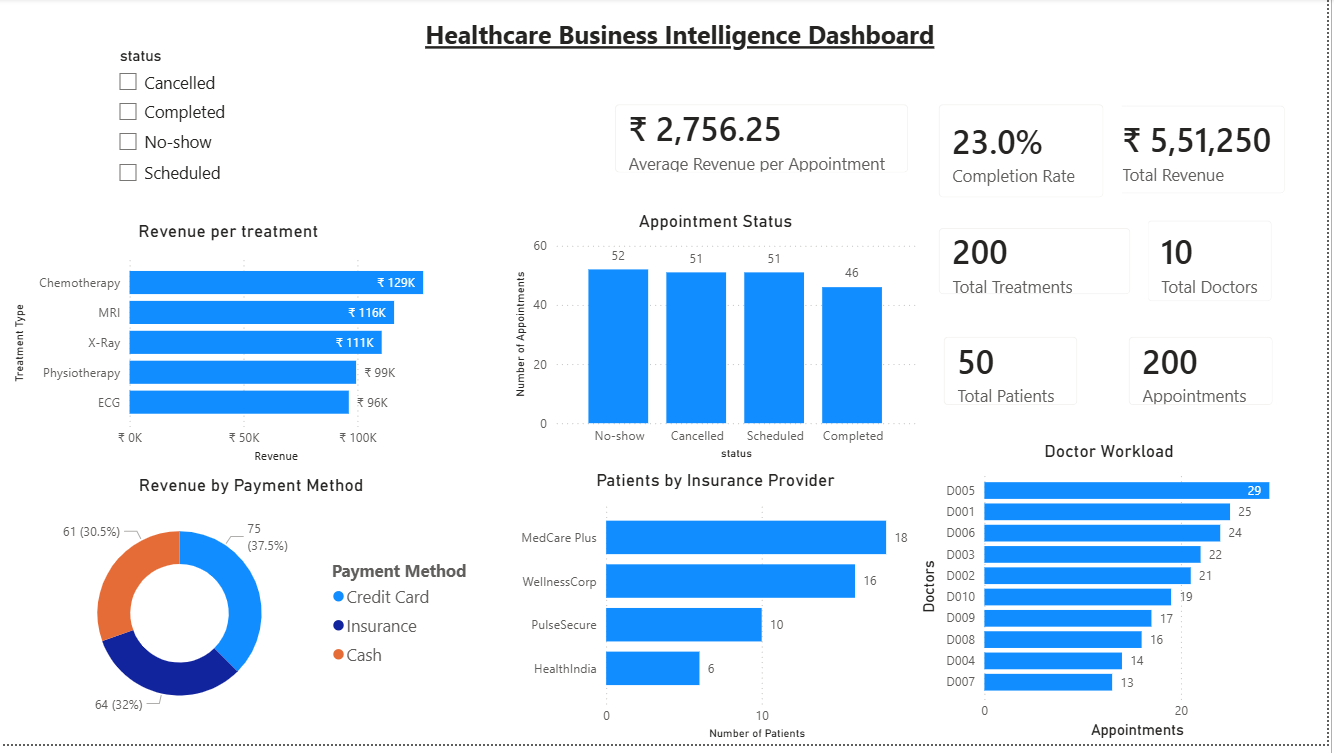

What the dashboard file says about the page in this screenshot:
{"tool":"powerbi","page":{"name":"Healthcare Business Intelligence Dashboard","canvas":[1280,720],"ordinal":0},"visuals":[{"type":"cardVisual","fields":{"Data":["Measures (2).Total Appointments"]},"box":[1072,310.2,173.1,101],"z":0},{"type":"cardVisual","fields":{"Data":["Measures (2).Total Doctors"]},"box":[1090.7,197.7,154.4,112.5],"z":1000},{"type":"cardVisual","fields":{"Data":["Measures (2).Total Patients"]},"box":[894.5,310.2,163,101],"z":2000},{"type":"cardVisual","fields":{"Data":["Measures (2).Total Treatments"]},"box":[888.7,204.9,219.3,98.1],"z":3000},{"type":"cardVisual","fields":{"Data":["Measures (2).Total Revenue"]},"box":[1053.2,86.6,204.9,119.7],"z":4000},{"type":"clusteredBarChart","title":"Revenue per treatment","fields":{"Y":["Sum(treatments.cost)"],"Category":["treatments.treatment_type"]},"box":[8.7,209.2,424.2,245.3],"z":5000},{"type":"clusteredColumnChart","title":"Appointment Status","fields":{"Y":["CountNonNull(appointments.appointment_id)"],"Category":["appointments.status"]},"box":[492,204.9,396.8,245.3],"z":6000},{"type":"barChart","title":"Doctor Workload","fields":{"Y":["CountNonNull(appointments.appointment_id)"],"Category":["appointments.doctor_id"]},"box":[880.1,427.1,378,292.9],"z":7000},{"type":"donutChart","title":"Revenue by Payment Method","fields":{"Category":["billing.payment_method"],"Y":["CountNonNull(billing.payment_method)"]},"box":[21.6,460.2,441.5,249.6],"z":8000},{"type":"clusteredBarChart","title":"Patients by Insurance Provider","fields":{"Category":["patients.insurance_provider"],"Y":["CountNonNull(patients.patient_id)"]},"box":[492,450.1,396.8,269.8],"z":9000},{"type":"textbox","box":[405.7,14.3,515.7,71.4],"z":10000},{"type":"cardVisual","fields":{"Data":["Measures (2).Average Revenue per Appointment"]},"box":[577.1,85.1,317.4,101],"z":11000},{"type":"cardVisual","fields":{"Data":["Measures (2).Completion Rate"]},"box":[888.7,85.1,193.3,124.1],"z":12000},{"type":"slicer","fields":{"Values":["appointments.status"]},"box":[102.4,41.8,217.9,144.3],"z":13000}]}

Visuals, with their boxes in screenshot pixels (x1, y1, x2, y2), scaled from the page's 1280x720 canvas onto the 1334x753 screenshot:
cardVisual - Measures (2).Total Appointments: <region>1117, 324, 1298, 430</region>
cardVisual - Measures (2).Total Doctors: <region>1137, 207, 1298, 324</region>
cardVisual - Measures (2).Total Patients: <region>932, 324, 1102, 430</region>
cardVisual - Measures (2).Total Treatments: <region>926, 214, 1155, 317</region>
cardVisual - Measures (2).Total Revenue: <region>1098, 91, 1311, 216</region>
"Revenue per treatment" clusteredBarChart: <region>9, 219, 451, 475</region>
"Appointment Status" clusteredColumnChart: <region>513, 214, 926, 471</region>
"Doctor Workload" barChart: <region>917, 447, 1311, 752</region>
"Revenue by Payment Method" donutChart: <region>23, 481, 483, 742</region>
"Patients by Insurance Provider" clusteredBarChart: <region>513, 471, 926, 752</region>
textbox: <region>423, 15, 960, 90</region>
cardVisual - Measures (2).Average Revenue per Appointment: <region>601, 89, 932, 195</region>
cardVisual - Measures (2).Completion Rate: <region>926, 89, 1128, 219</region>
slicer - appointments.status: <region>107, 44, 334, 195</region>
